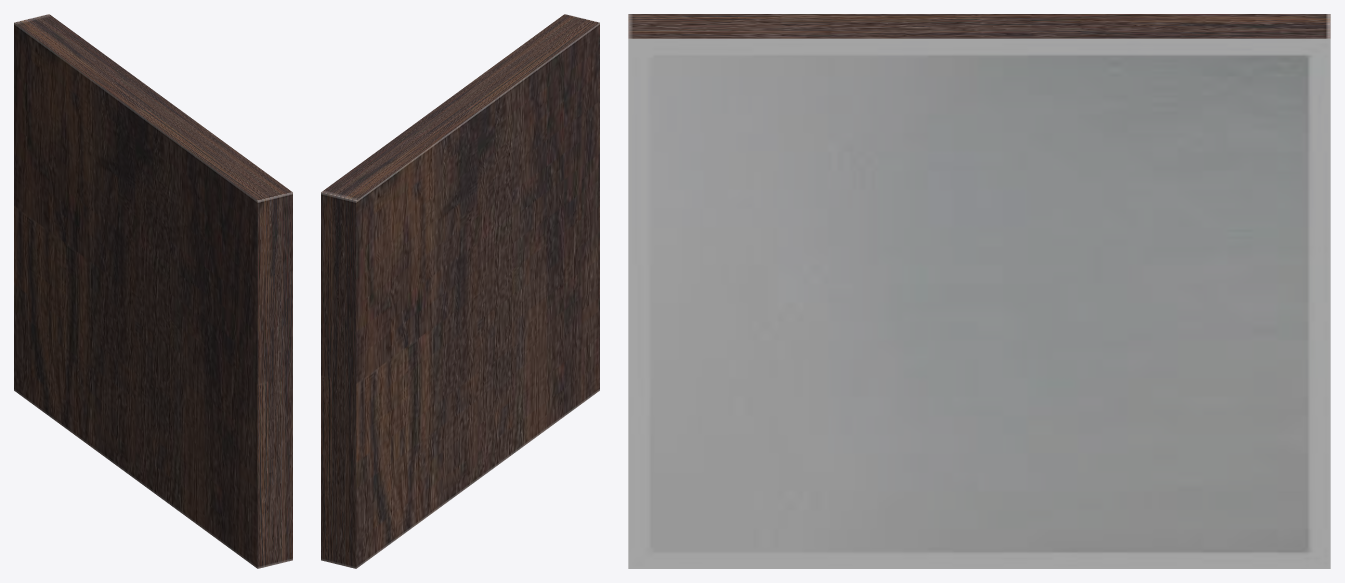
File: ArtFrame60x50cm001.FBX
3 renders of one model, left to right at view 1: azimuth 30°, elevation 25°; view 2: azimuth 150°, elevation 25°; view 3: azimuth 270°, elevation 25°, orthographic. The views are drawn at different scales.
Visible parts, largest first — view 1: ArtFrame60x50cm001; view 2: ArtFrame60x50cm001; view 3: ArtFrame60x50cm001.
Boxes of the visible parts, bbox=[...] form: ArtFrame60x50cm001: bbox=[14, 14, 292, 568]; ArtFrame60x50cm001: bbox=[321, 14, 599, 568]; ArtFrame60x50cm001: bbox=[628, 14, 1330, 568].
Size of the model in its own units: 5 by 50 by 60.
